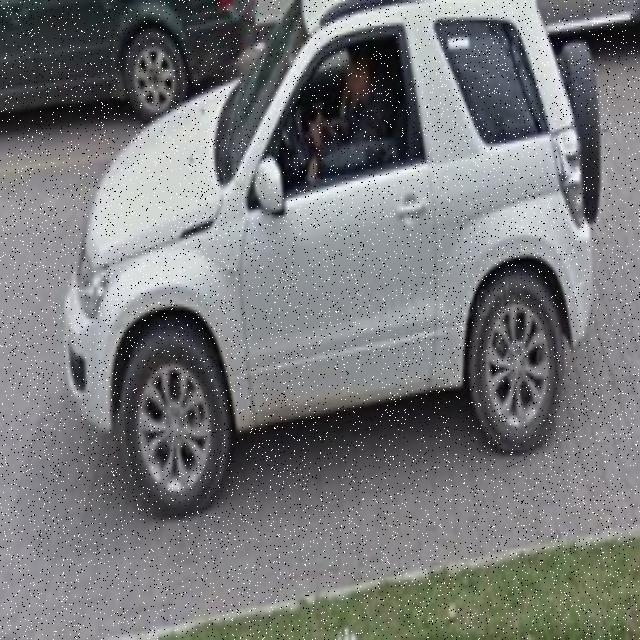cars: (73, 0, 601, 486)
